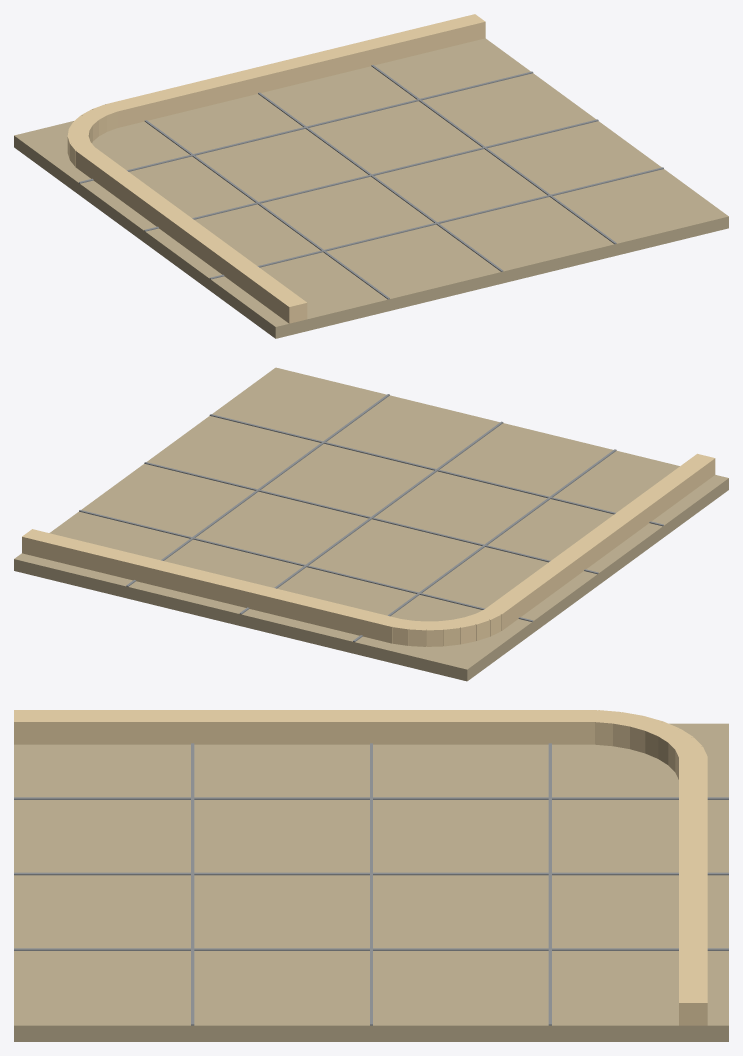
Rendered from curb_corner.glb.
3 renders of one model, top to bottom at view 1: azimuth 30°, elevation 25°; view 2: azimuth 150°, elevation 25°; view 3: azimuth 270°, elevation 25°, orthographic. The views are drawn at different scales.
Visible parts, largest first — view 1: tile, curb_edge.001, curb_edge, paver_joint.001, paver_joint.003, paver_joint.005, paver_joint, paver_joint.004, paver_joint.002; view 2: tile, curb_edge.001, curb_edge, paver_joint.003, paver_joint.001, paver_joint.005, paver_joint, paver_joint.002, paver_joint.004; view 3: tile, curb_edge, curb_edge.001, paver_joint.002, paver_joint, paver_joint.004, paver_joint.001, paver_joint.005, paver_joint.003, rounded_curb.001, rounded_curb.002, rounded_curb.003 (+3 smaller).
Part boxes in pixels (box(x1,y1,x2,y2)): tile: box(14, 38, 728, 338); curb_edge.001: box(113, 14, 485, 126); curb_edge: box(80, 152, 307, 323); paver_joint.001: box(209, 167, 663, 279); paver_joint.003: box(144, 119, 598, 231); paver_joint.005: box(79, 71, 533, 183); paver_joint: box(144, 120, 389, 299); paver_joint.004: box(371, 65, 616, 244); paver_joint.002: box(258, 92, 503, 271); tile: box(14, 367, 728, 681); curb_edge.001: box(22, 529, 394, 641); curb_edge: box(489, 453, 715, 624); paver_joint.003: box(144, 462, 598, 574); paver_joint.001: box(209, 414, 663, 526); paver_joint.005: box(79, 510, 533, 621); paver_joint: box(353, 449, 616, 641); paver_joint.002: box(239, 421, 503, 614); paver_joint.004: box(126, 394, 389, 586); tile: box(14, 723, 728, 1041); curb_edge: box(14, 710, 585, 744); curb_edge.001: box(679, 761, 707, 1025); paver_joint.002: box(14, 872, 728, 875); paver_joint: box(14, 797, 728, 799); paver_joint.004: box(14, 948, 728, 950); paver_joint.001: box(191, 743, 194, 1025); paver_joint.005: box(548, 743, 551, 1025); paver_joint.003: box(370, 743, 372, 1025); rounded_curb.001: box(593, 710, 620, 746); rounded_curb.002: box(613, 712, 642, 748); rounded_curb.003: box(628, 716, 662, 753).
Size of the model in its own units: 4 by 0.24 by 4.
